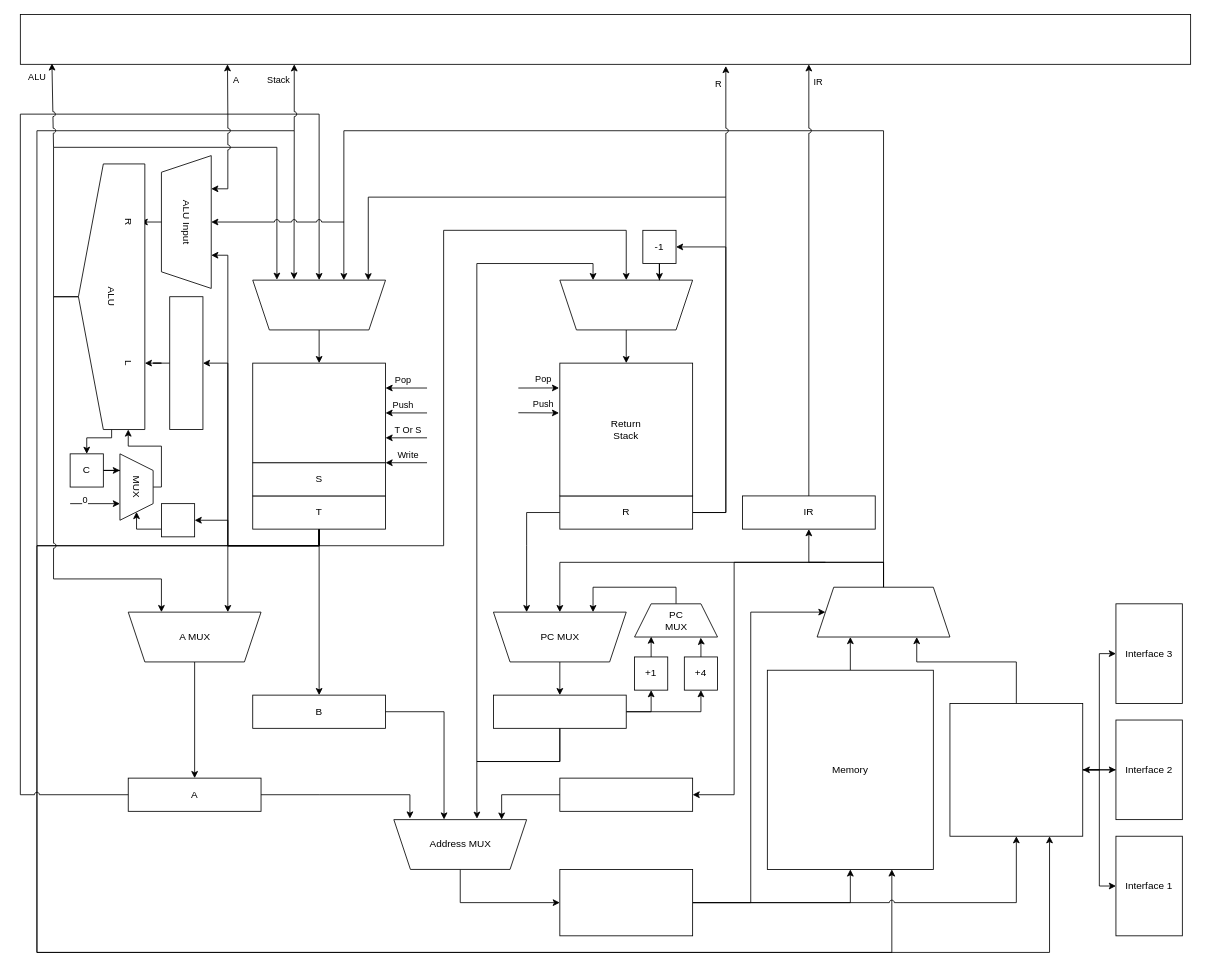
Some shapes in this 1205 by 974 pixel diagram are drawn without their labels. The box of each missing label's shape, as (x1, y1, x2, y2) in pixels:
Address Decoder: (559, 869, 693, 936)
AR: (559, 777, 693, 811)
Control Unit: (20, 14, 1191, 64)
Data Stack: (252, 362, 386, 463)
Data Stack MUX: (252, 279, 386, 330)
EAM: (161, 503, 195, 537)
I/O Controller: (949, 703, 1083, 836)
Memory MUX: (816, 586, 950, 637)
PC: (493, 694, 626, 728)
Return Stack MUX: (559, 279, 693, 330)
Temp: (169, 296, 203, 430)
